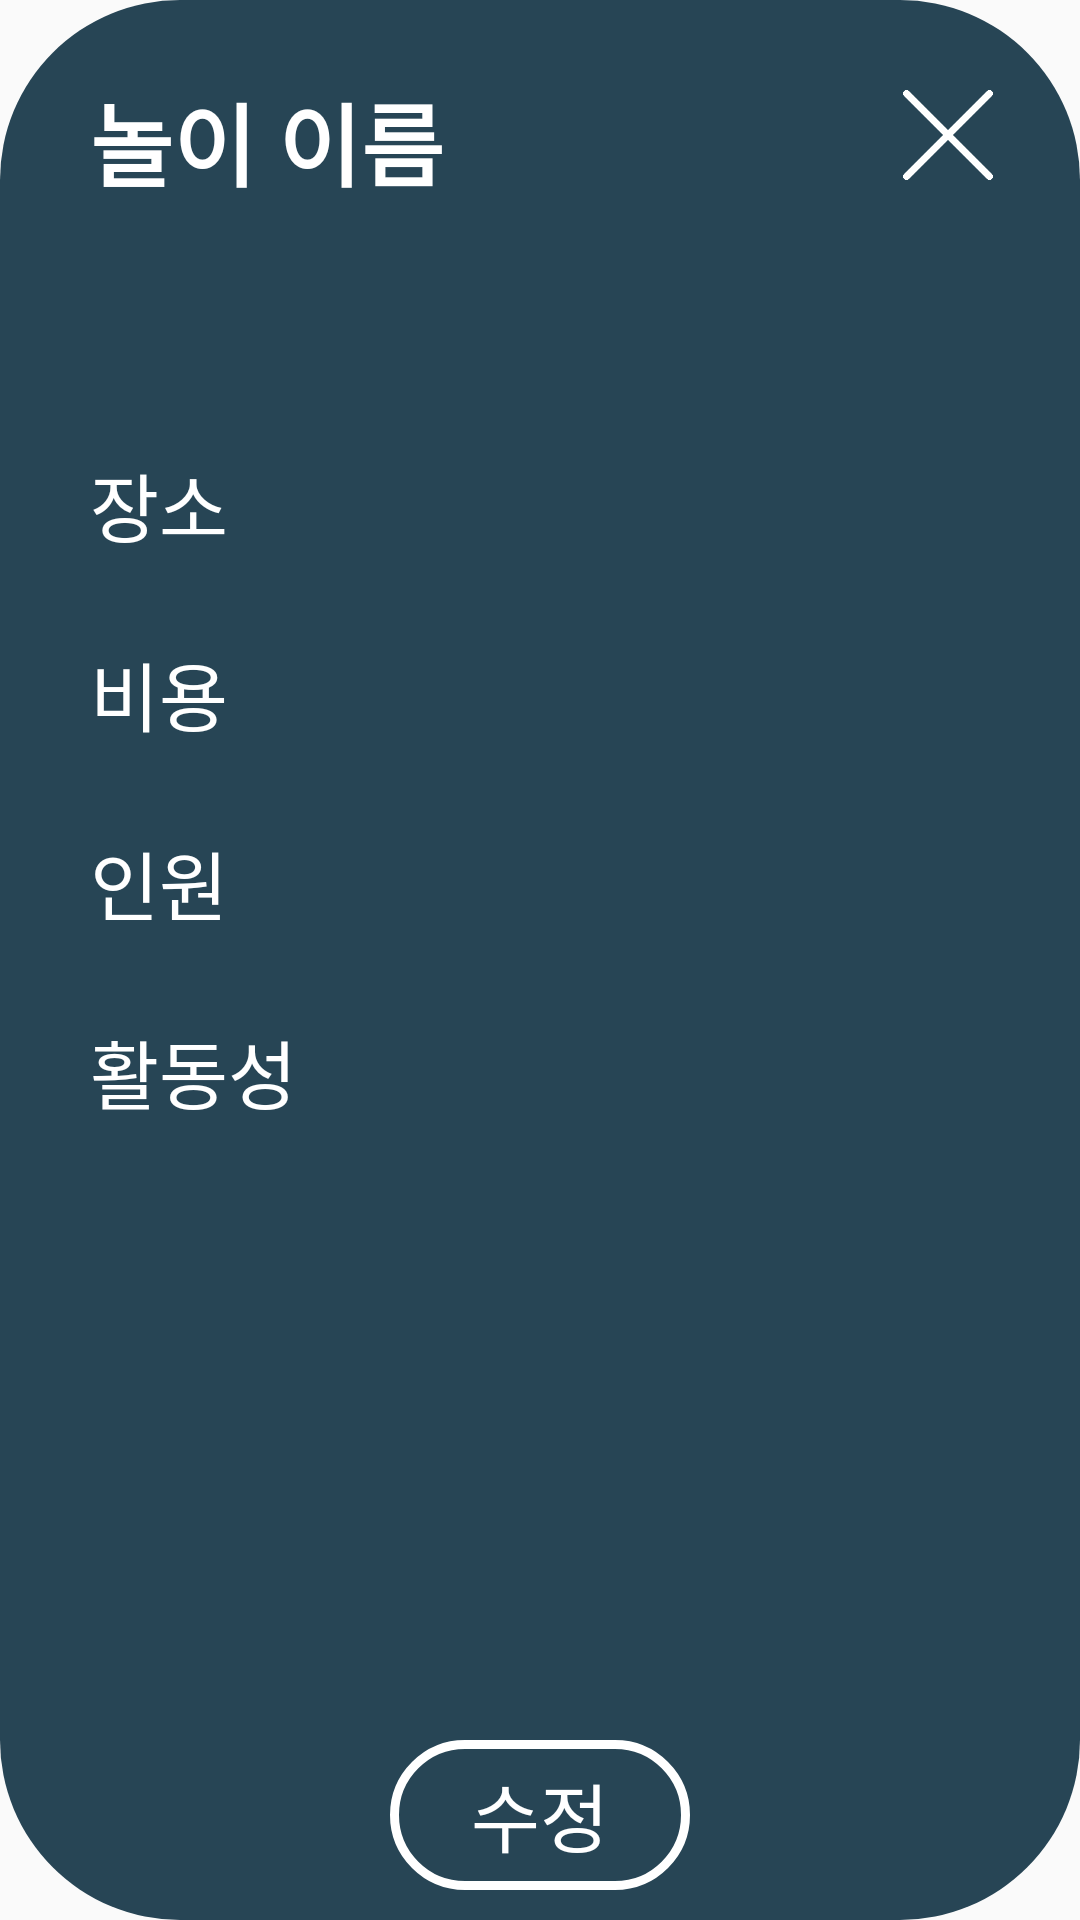

Icon bounding boxes for this 1080w x 1920h phone screenshot, format (left=x1, top=y1, right=x2, bottom=y2):
close: (left=903, top=90, right=993, bottom=180)
